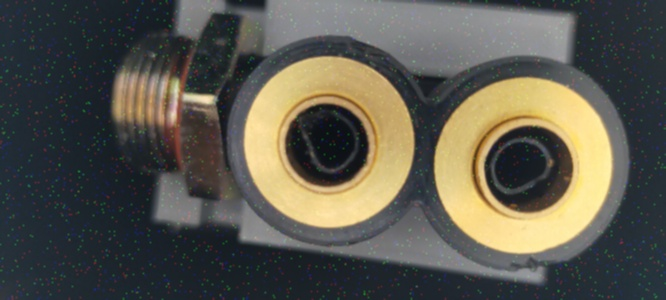bump: (497, 251, 561, 272)
off-centered: (288, 99, 365, 179), (488, 131, 561, 201)
